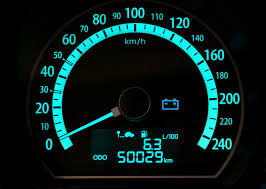Digital_Meter: (86, 133, 184, 164)
